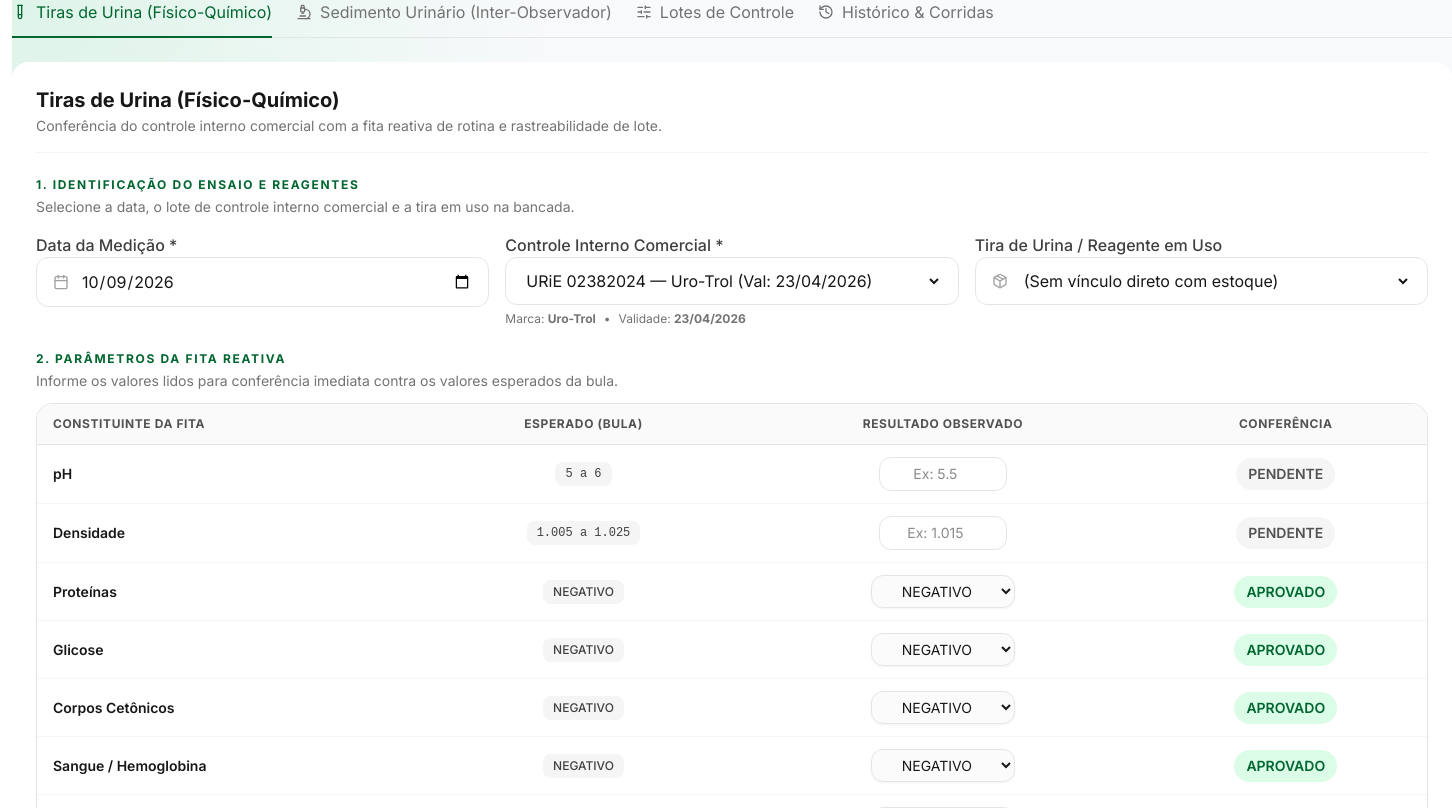
Scenario: UroanaliseArea › deve exibir tabela da fita reativa com inputs limpos (sem valores prévios) e aguardando medição inicialmente
This screenshot has width=1452, height=808.
Expected: the column heading "Constituinte da Fita" is shown, [37,404,426,444]
Expected: the text "Densidade" is shown, [37,504,426,562]
// Ao preencher com valores válidos, passa para CONTROLE APROVADO
Step 1. Type "5.5" into the number field named "Resultado de pH" → (943, 474), box [879,457,1007,491]
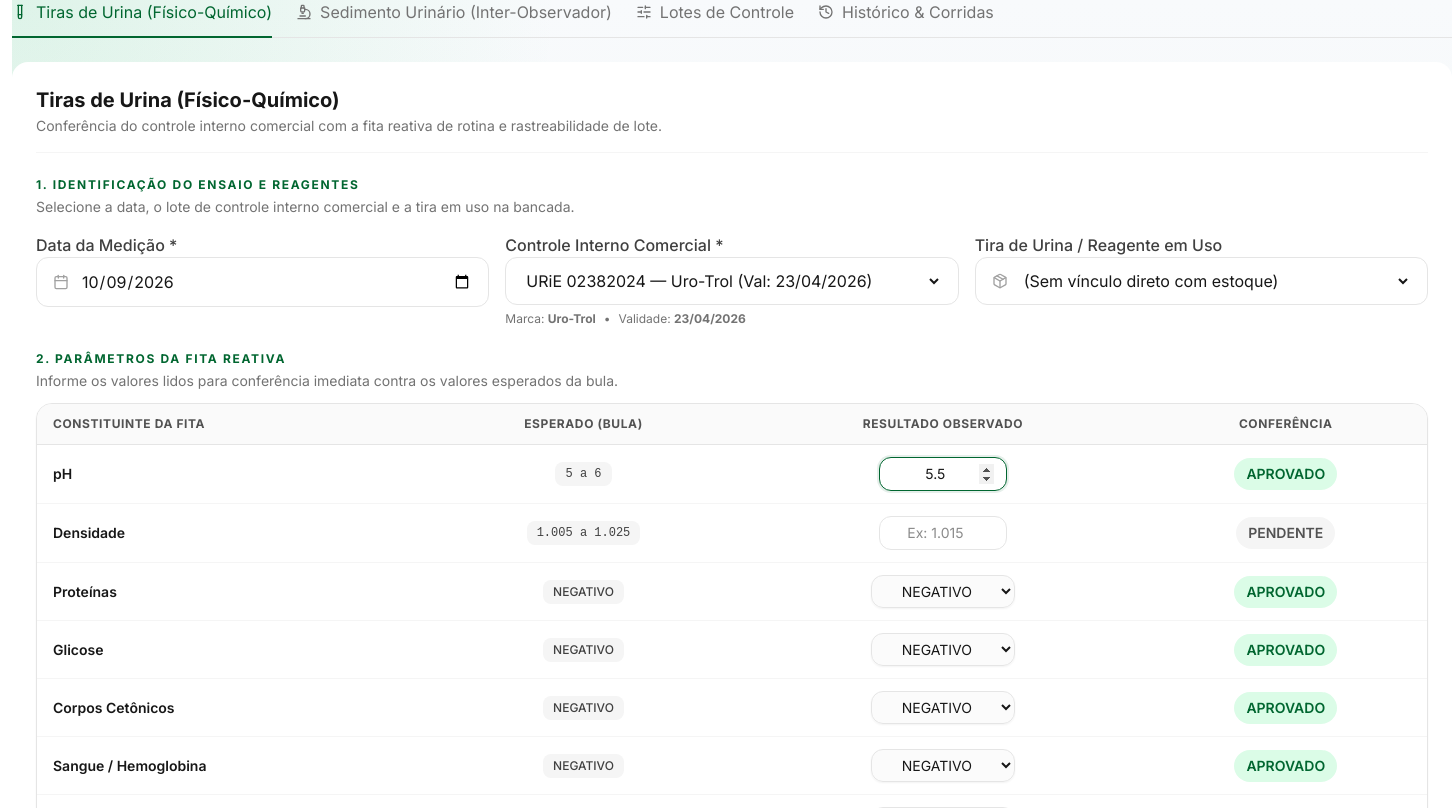
Step 2. Type "1.015" into the number field named "Resultado de Densidade" → (943, 533), box [879,516,1007,550]
(page scrolled)
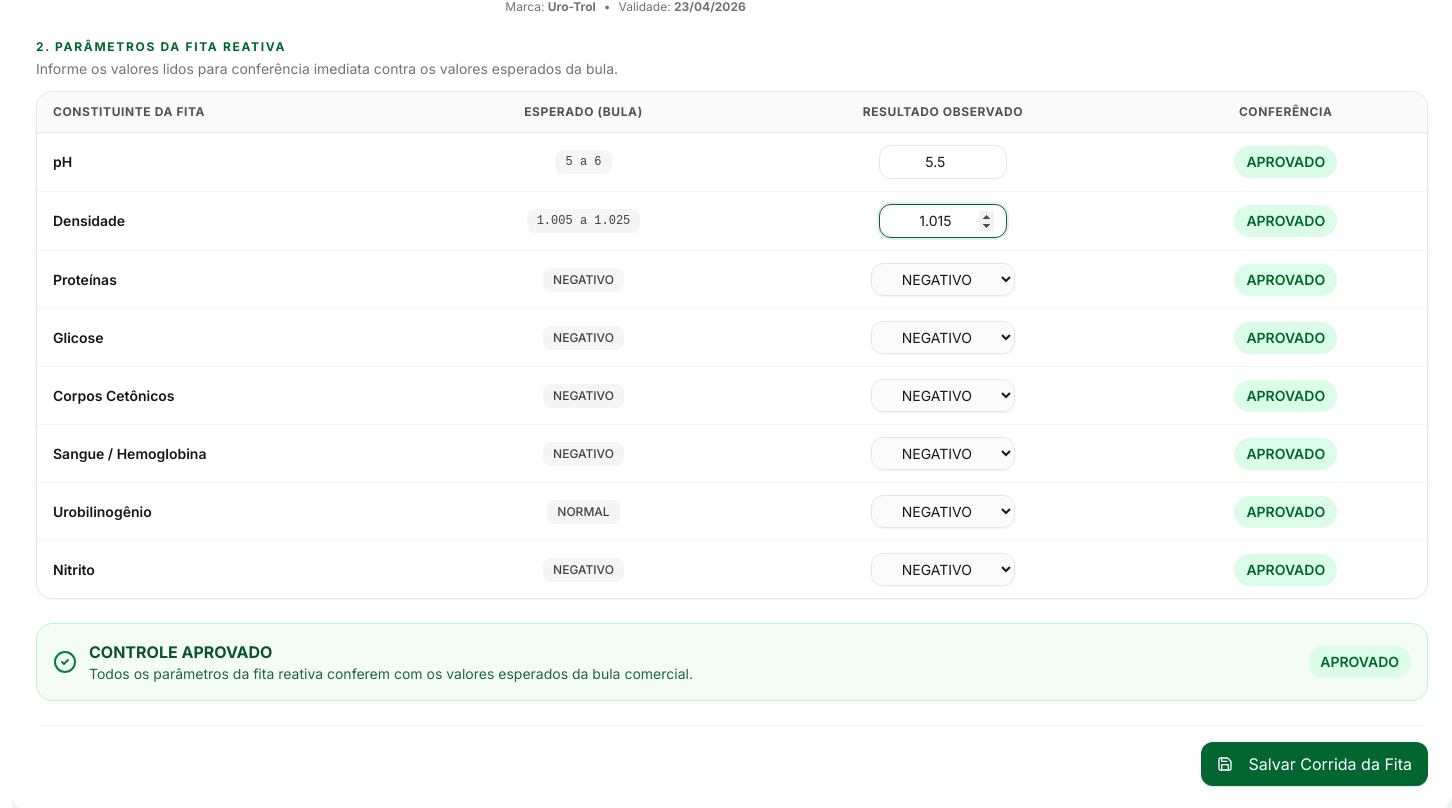
Expected: the heading "CONTROLE APROVADO" is shown, [89,642,272,662]
